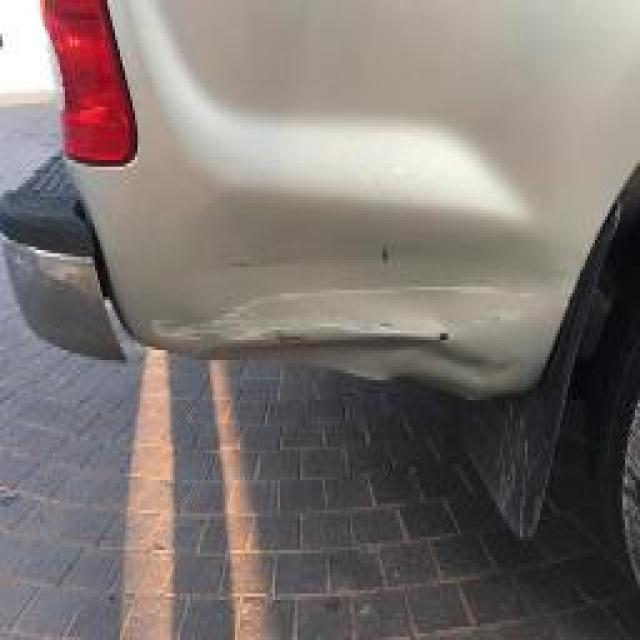Fender: (128, 117, 548, 403)
